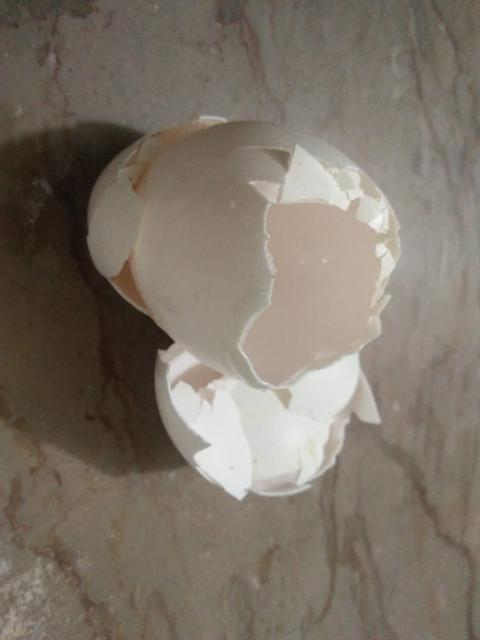Roto: (92, 114, 400, 503)
